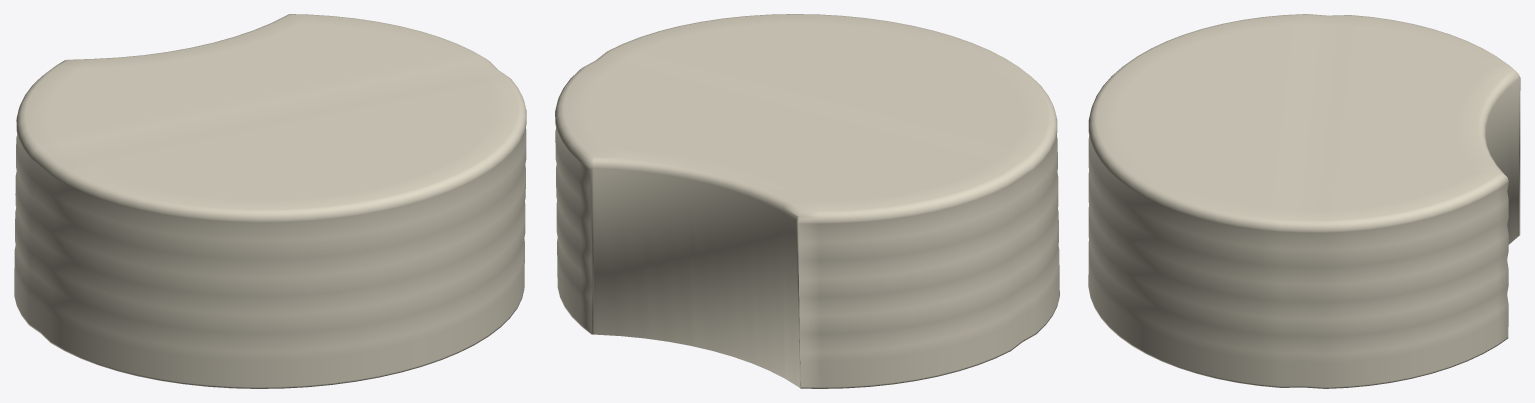
The model's file is cot.glb.
3 views of the same model, side by side, from view 1: azimuth 30°, elevation 25°; view 2: azimuth 150°, elevation 25°; view 3: azimuth 270°, elevation 25° (orthographic). The views are drawn at different scales.
Parts seen in each view (by area): view 1: Cylinder.004; view 2: Cylinder.004; view 3: Cylinder.004.
Part boxes in pixels (x1,y1,x2,y2): Cylinder.004: (14,14,526,388); Cylinder.004: (555,14,1059,388); Cylinder.004: (1088,14,1520,388).
Size of the model in its own units: 2.21 by 0.8484 by 1.93.
